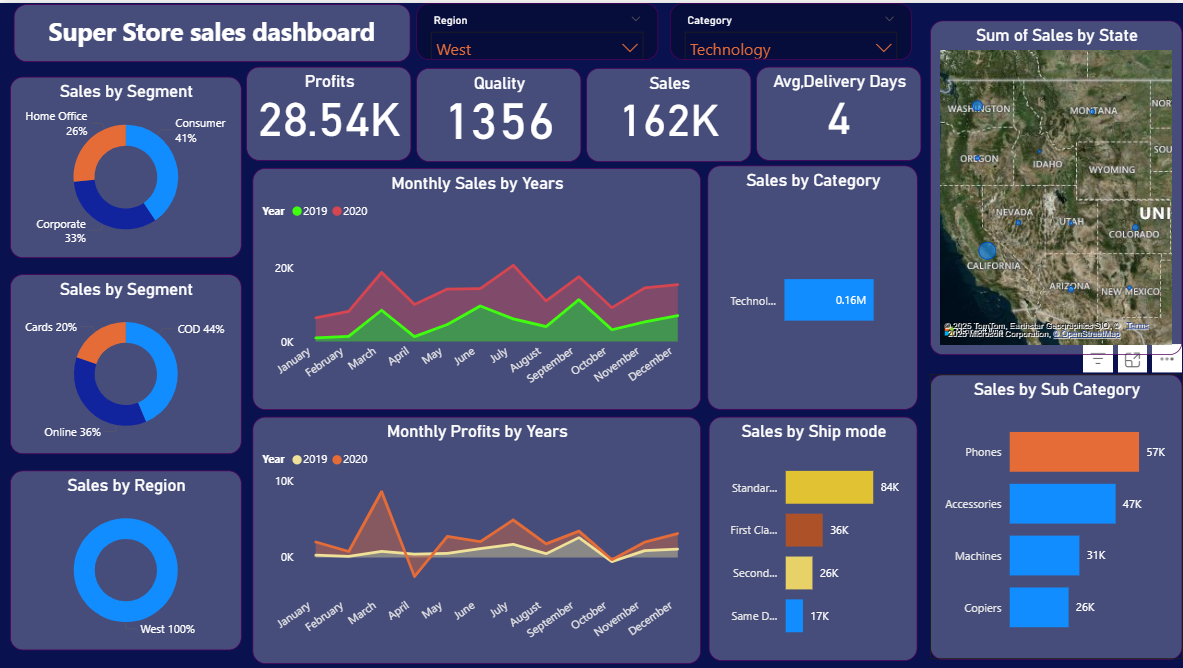

This screenshot's page, from the dashboard's own definition file:
{"tool":"powerbi","page":{"name":"Page 1","canvas":[1280,720],"ordinal":0},"visuals":[{"type":"clusteredBarChart","title":" Sales by Category","fields":{"Category":["SuperStore_Sales_Dataset new.Category"],"Y":["Sum(SuperStore_Sales_Dataset new.Sales)"]},"box":[764.4,175.5,227,263.8],"z":0},{"type":"clusteredBarChart","title":" Sales by Sub Category","fields":{"Category":["SuperStore_Sales_Dataset new.Sub-Category"],"Y":["Sum(SuperStore_Sales_Dataset new.Sales)"]},"box":[1005.7,401.4,272.9,308.6],"z":1000},{"type":"clusteredBarChart","title":" Sales by Ship mode","fields":{"Category":["SuperStore_Sales_Dataset new.Ship Mode"],"Y":["Sum(SuperStore_Sales_Dataset new.Sales)"]},"box":[765.6,446.6,225.8,263.8],"z":2000},{"type":"stackedAreaChart","title":" Monthly Sales by  Years","fields":{"Category":["SuperStore_Sales_Dataset new.Order Date.Variation.Date Hierarchy.Month"],"Y":["Sum(SuperStore_Sales_Dataset new.Sales)"],"Series":["SuperStore_Sales_Dataset new.Order Date.Variation.Date Hierarchy.Year"]},"box":[272.4,177.9,484.7,261.4],"z":3000},{"type":"stackedAreaChart","title":" Monthly Profits by  Years","fields":{"Category":["SuperStore_Sales_Dataset new.Order Date.Variation.Date Hierarchy.Month"],"Series":["SuperStore_Sales_Dataset new.Order Date.Variation.Date Hierarchy.Year"],"Y":["Sum(SuperStore_Sales_Dataset new.Profit)"]},"box":[272.4,446.6,484.7,267.5],"z":4000},{"type":"map","fields":{"Category":["SuperStore_Sales_Dataset new.State"],"Size":["Sum(SuperStore_Sales_Dataset new.Sales)"]},"box":[1005.7,18.6,272.9,361.4],"z":5000},{"type":"donutChart","title":"Sales by Segment","fields":{"Category":["SuperStore_Sales_Dataset new.Segment"],"Y":["Sum(SuperStore_Sales_Dataset new.Sales)"]},"box":[11.4,80,250,195.7],"z":6000},{"type":"donutChart","title":"Sales by Segment","fields":{"Y":["Sum(SuperStore_Sales_Dataset new.Sales)"],"Category":["SuperStore_Sales_Dataset new.Payment Mode"]},"box":[11.4,292.9,250,194.3],"z":7000},{"type":"slicer","fields":{"Values":["SuperStore_Sales_Dataset new.Region"]},"box":[450.3,0,261.4,61.4],"z":8000},{"type":"textbox","box":[14.3,1.3,428.6,62.3],"z":9000},{"type":"card","title":"Sales","fields":{"Values":["Sum(SuperStore_Sales_Dataset new.Sales)"]},"box":[634.3,70,178.6,101.4],"z":10000},{"type":"card","title":"Profits ","fields":{"Values":["Sum(SuperStore_Sales_Dataset new.Profit)"]},"box":[265.7,68.6,178.6,101.4],"z":11000},{"type":"card","title":"Quality ","fields":{"Values":["Sum(SuperStore_Sales_Dataset new.Quantity)"]},"box":[450,70,178.6,101.4],"z":12000},{"type":"donutChart","title":"Sales by Region ","fields":{"Y":["Sum(SuperStore_Sales_Dataset new.Sales)"],"Category":["SuperStore_Sales_Dataset new.Region"]},"box":[11.4,505.7,250,194.3],"z":13000},{"type":"card","title":"Avg,Delivery Days","fields":{"Values":["Avg(SuperStore_Sales_Dataset new.AvgDelivery)"]},"box":[817.1,68.6,178.6,101.4],"z":14000},{"type":"slicer","fields":{"Values":["SuperStore_Sales_Dataset new.Category"]},"box":[723.9,0,261.4,61.4],"z":14001}]}

Visuals, with their boxes in screenshot pixels (x1, y1, x2, y2), scaled from the page's 1280x720 canvas onto the 1183x668 screenshot:
" Sales by Category" clusteredBarChart: l=706, t=163, r=916, b=408
" Sales by Sub Category" clusteredBarChart: l=929, t=372, r=1182, b=659
" Sales by Ship mode" clusteredBarChart: l=708, t=414, r=916, b=659
" Monthly Sales by  Years" stackedAreaChart: l=252, t=165, r=700, b=408
" Monthly Profits by  Years" stackedAreaChart: l=252, t=414, r=700, b=663
map - SuperStore_Sales_Dataset new.State x Sum(SuperStore_Sales_Dataset new.Sales): l=929, t=17, r=1182, b=353
"Sales by Segment" donutChart: l=11, t=74, r=242, b=256
"Sales by Segment" donutChart: l=11, t=272, r=242, b=452
slicer - SuperStore_Sales_Dataset new.Region: l=416, t=0, r=658, b=57
textbox: l=13, t=1, r=409, b=59
"Sales" card: l=586, t=65, r=751, b=159
"Profits " card: l=246, t=64, r=411, b=158
"Quality " card: l=416, t=65, r=581, b=159
"Sales by Region " donutChart: l=11, t=469, r=242, b=649
"Avg,Delivery Days" card: l=755, t=64, r=920, b=158
slicer - SuperStore_Sales_Dataset new.Category: l=669, t=0, r=911, b=57
